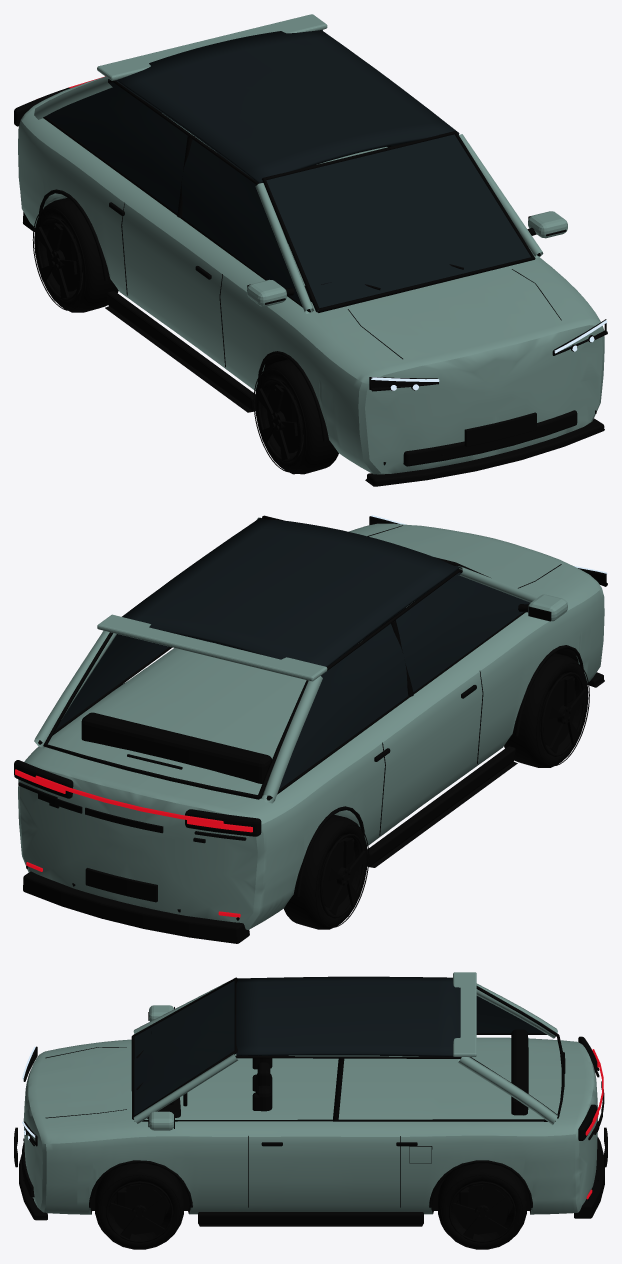
The model's file is emas.glb.
3 renders of one model, top to bottom at view 1: azimuth 30°, elevation 25°; view 2: azimuth 150°, elevation 25°; view 3: azimuth 270°, elevation 25°, orthographic. The views are drawn at different scales.
Visible parts, largest first — view 1: chassis.001__Automotive clearcoat, chassis.001__Solar glass, chassis.001__Vehicle detail atlas, wheel_FL.001__Vehicle detail atlas, wheel_RL.001__Vehicle detail atlas; view 2: chassis.001__Automotive clearcoat, chassis.001__Solar glass, chassis.001__Vehicle detail atlas, wheel_RL.001__Vehicle detail atlas, wheel_FL.001__Vehicle detail atlas, chassis.001__Red LED optics; view 3: chassis.001__Automotive clearcoat, chassis.001__Solar glass, chassis.001__Vehicle detail atlas, wheel_FR.001__Vehicle detail atlas, wheel_RR.001__Vehicle detail atlas.
Part boxes in pixels (<box>): chassis.001__Automotive clearcoat: <box>18,14,604,474</box>; chassis.001__Solar glass: <box>46,30,530,310</box>; chassis.001__Vehicle detail atlas: <box>14,79,606,486</box>; wheel_FL.001__Vehicle detail atlas: <box>253,359,338,474</box>; wheel_RL.001__Vehicle detail atlas: <box>32,197,118,312</box>; chassis.001__Automotive clearcoat: <box>18,517,604,929</box>; chassis.001__Solar glass: <box>56,518,530,789</box>; chassis.001__Vehicle detail atlas: <box>14,515,606,943</box>; wheel_RL.001__Vehicle detail atlas: <box>284,814,369,929</box>; wheel_FL.001__Vehicle detail atlas: <box>504,653,589,767</box>; chassis.001__Red LED optics: <box>15,769,252,917</box>; chassis.001__Automotive clearcoat: <box>23,972,598,1214</box>; chassis.001__Solar glass: <box>134,976,543,1115</box>; chassis.001__Vehicle detail atlas: <box>14,977,607,1226</box>; wheel_FR.001__Vehicle detail atlas: <box>95,1163,183,1249</box>; wheel_RR.001__Vehicle detail atlas: <box>438,1163,526,1249</box>.
Bounding box in the file's own units: 2.23 × 1.69 × 4.77.
Materials: 8 (6 with a texture image).
